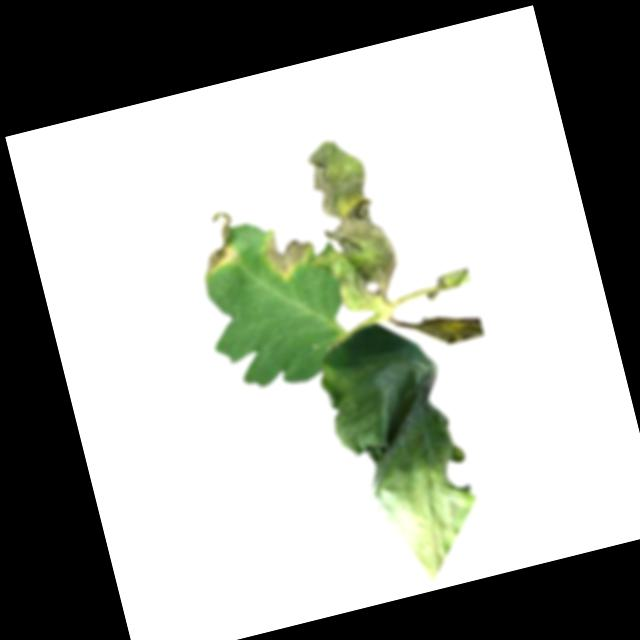Late_blight: (309, 307, 496, 595), (285, 132, 406, 317), (194, 207, 245, 275), (261, 225, 314, 284)
